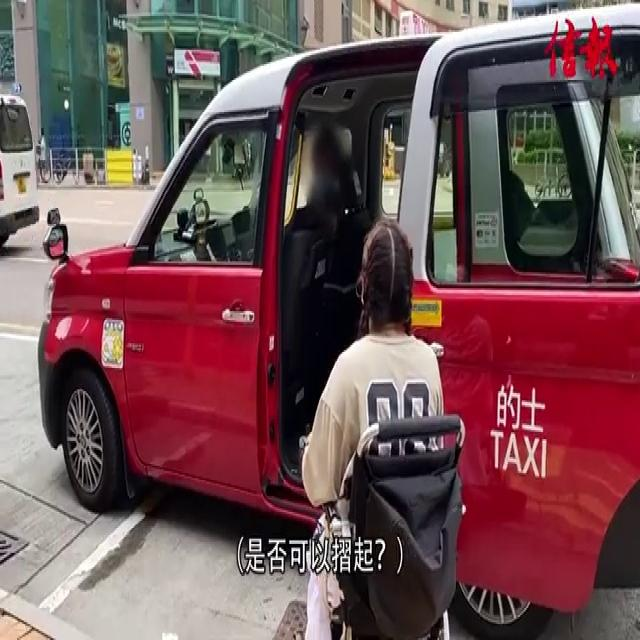wheelchairs: (288, 397, 470, 640)
